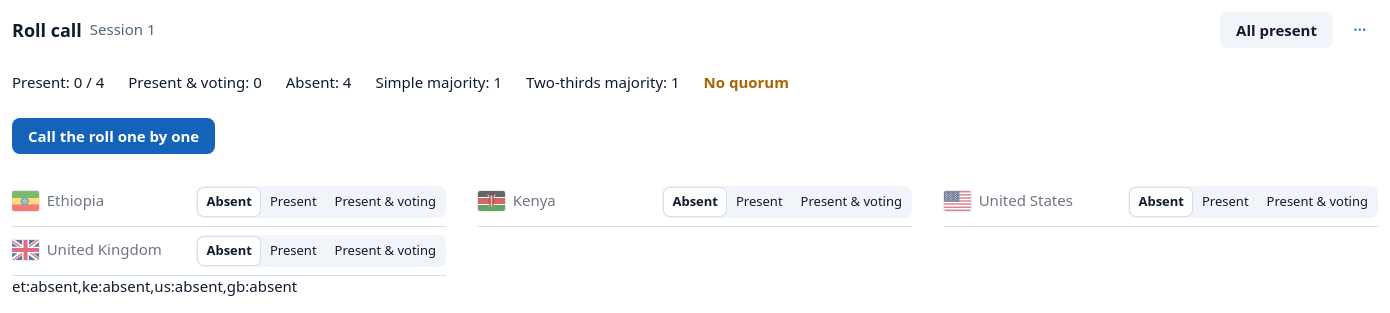
Test: RollCallPanel › All present and Clear
The width and height of the screenshot is (1390, 313).
Click the button "All present" at (1276, 30), box [1220, 12, 1333, 48]
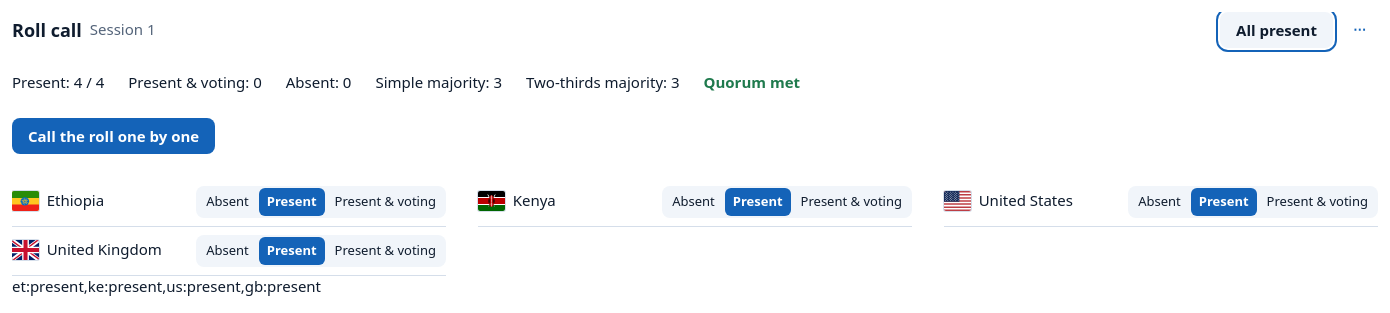
Check: the text "Quorum met" is shown, box [704, 72, 800, 94]
Check: the text "Simple majority: 3" is shown, box [375, 72, 502, 94]
Check: the text "Two-thirds majority: 3" is shown, box [526, 72, 680, 94]
Click the button named "More roll call actions" at (1360, 30), box [1341, 16, 1378, 44]
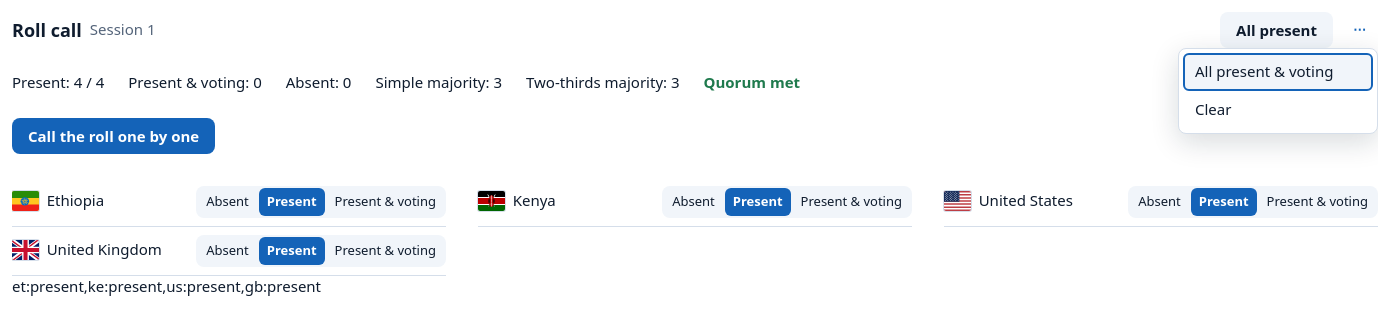
Click the menu item "Clear" at (1278, 110), box [1183, 91, 1373, 129]
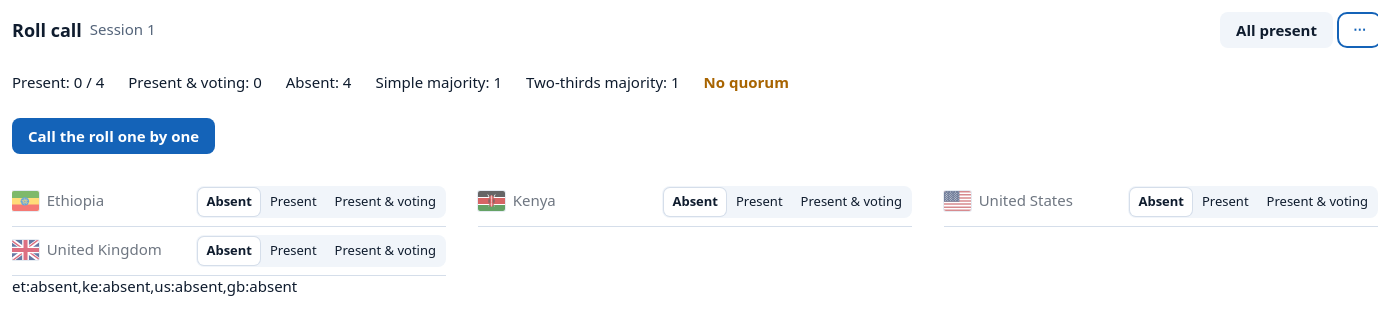
Check: the text with test id "probe" reads "et:absent,ke:absent,us:absent,gb:absent", box [12, 276, 297, 296]
Check: the text "No quorum" is shown, box [704, 72, 789, 94]
